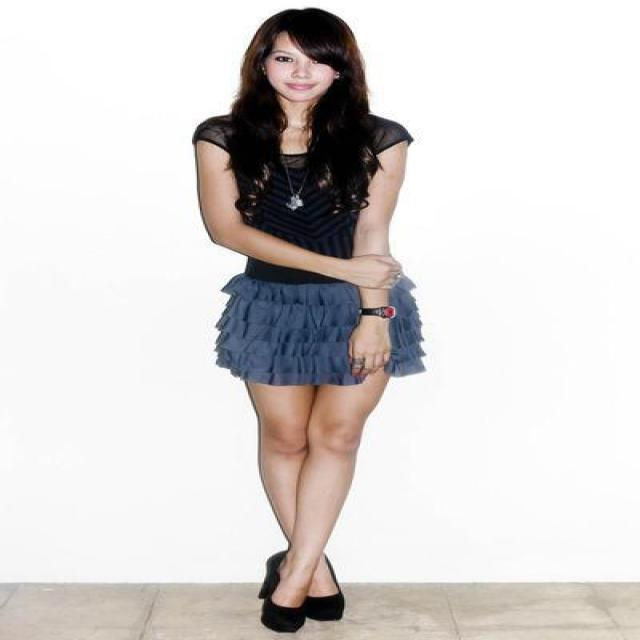shirt: (192, 115, 413, 287)
shoe: (258, 550, 344, 632)
skirt: (214, 272, 424, 391)
